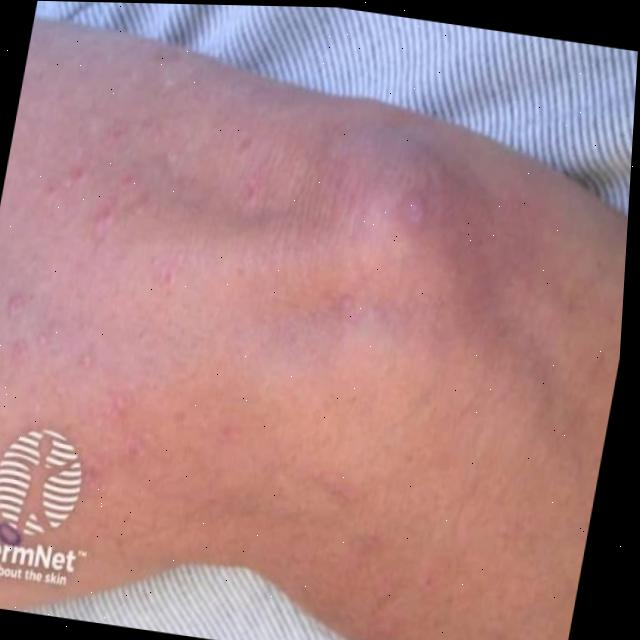Eczema: (0, 122, 592, 566)
